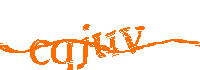c: (29, 34, 53, 65)
j: (76, 22, 90, 70)
q: (52, 38, 74, 70)
u: (93, 29, 117, 58)
v: (119, 26, 147, 55)
